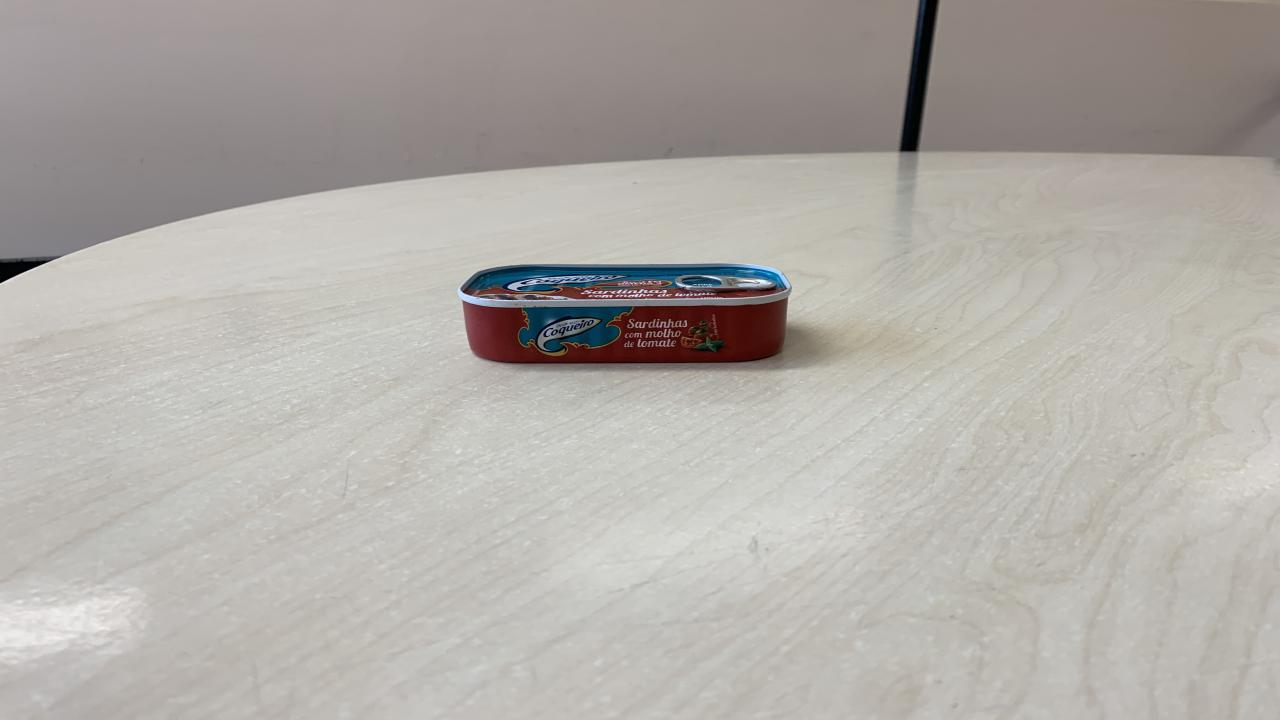Tuna_Can-Pantry_Items: (457, 263, 791, 366)
